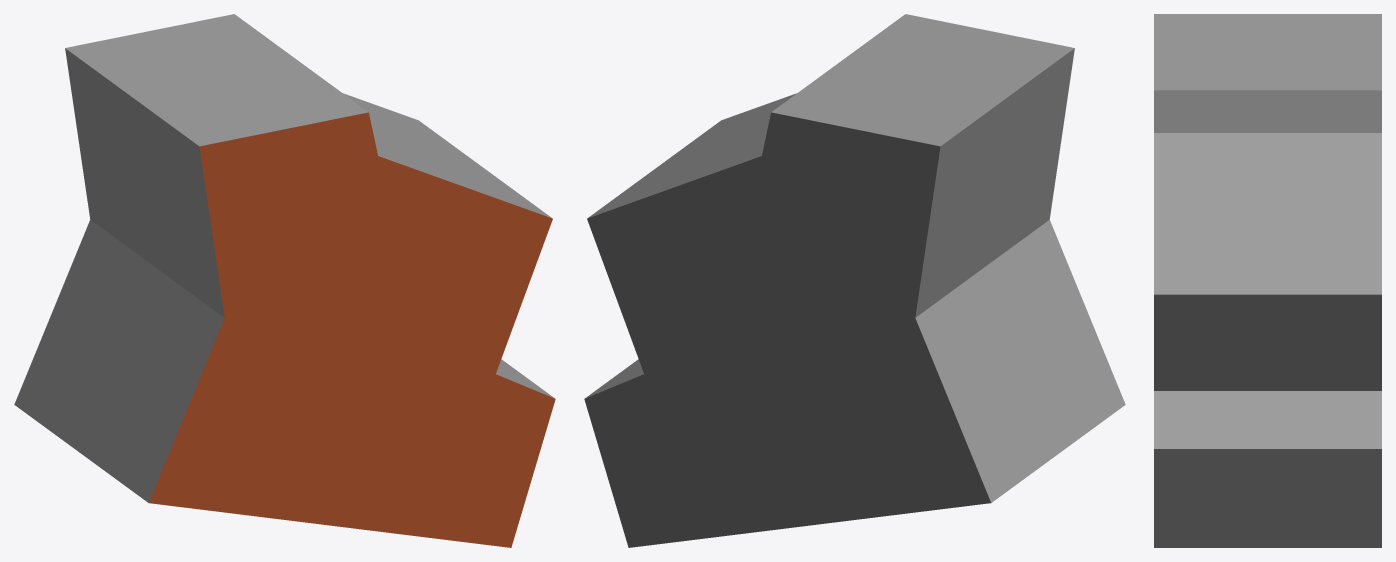
The model's file is construction_4202_assumed_A_Casa_h6m.obj.
3 views of the same model, side by side, from view 1: azimuth 30°, elevation 25°; view 2: azimuth 150°, elevation 25°; view 3: azimuth 270°, elevation 25° (orthographic). The views are drawn at different scales.
Parts seen in each view (by area): view 1: construction_4202_assumed_A_Casa; view 2: construction_4202_assumed_A_Casa; view 3: construction_4202_assumed_A_Casa.
Boxes of the visible parts, x1,y1,x2,y2 form: construction_4202_assumed_A_Casa: (14, 14, 555, 547); construction_4202_assumed_A_Casa: (584, 14, 1125, 547); construction_4202_assumed_A_Casa: (1154, 14, 1381, 547).
Bounding box in the file's own units: 10.49 × 11.76 × 6.
